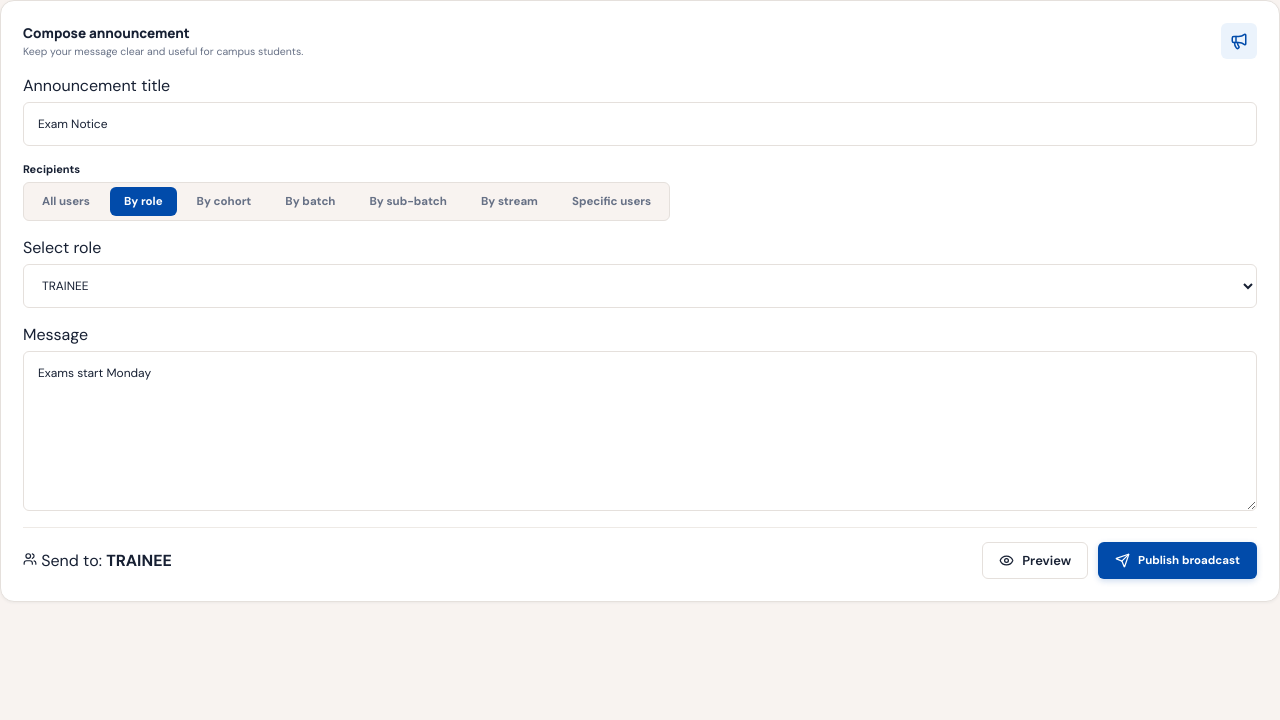
Scenario: BroadcastForm preview modal › reflects the current title, message and recipient summary in the preview
Click the button "Preview".
click(1035, 561)  # box [982, 542, 1088, 579]
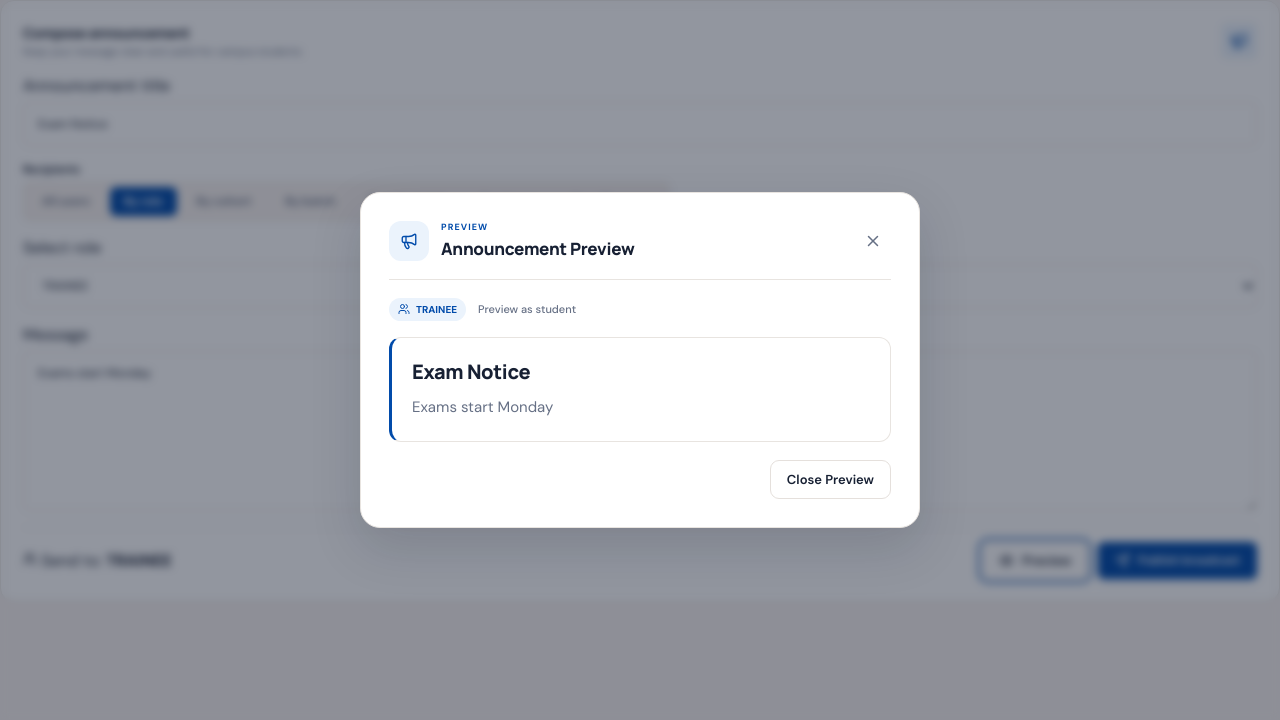
Now the heading "Exam Notice" is shown, box [412, 358, 530, 385]
Now the text "Exams start Monday" is shown, box [412, 397, 553, 417]
Now the text "TRAINEE" is shown, box [389, 298, 466, 321]
